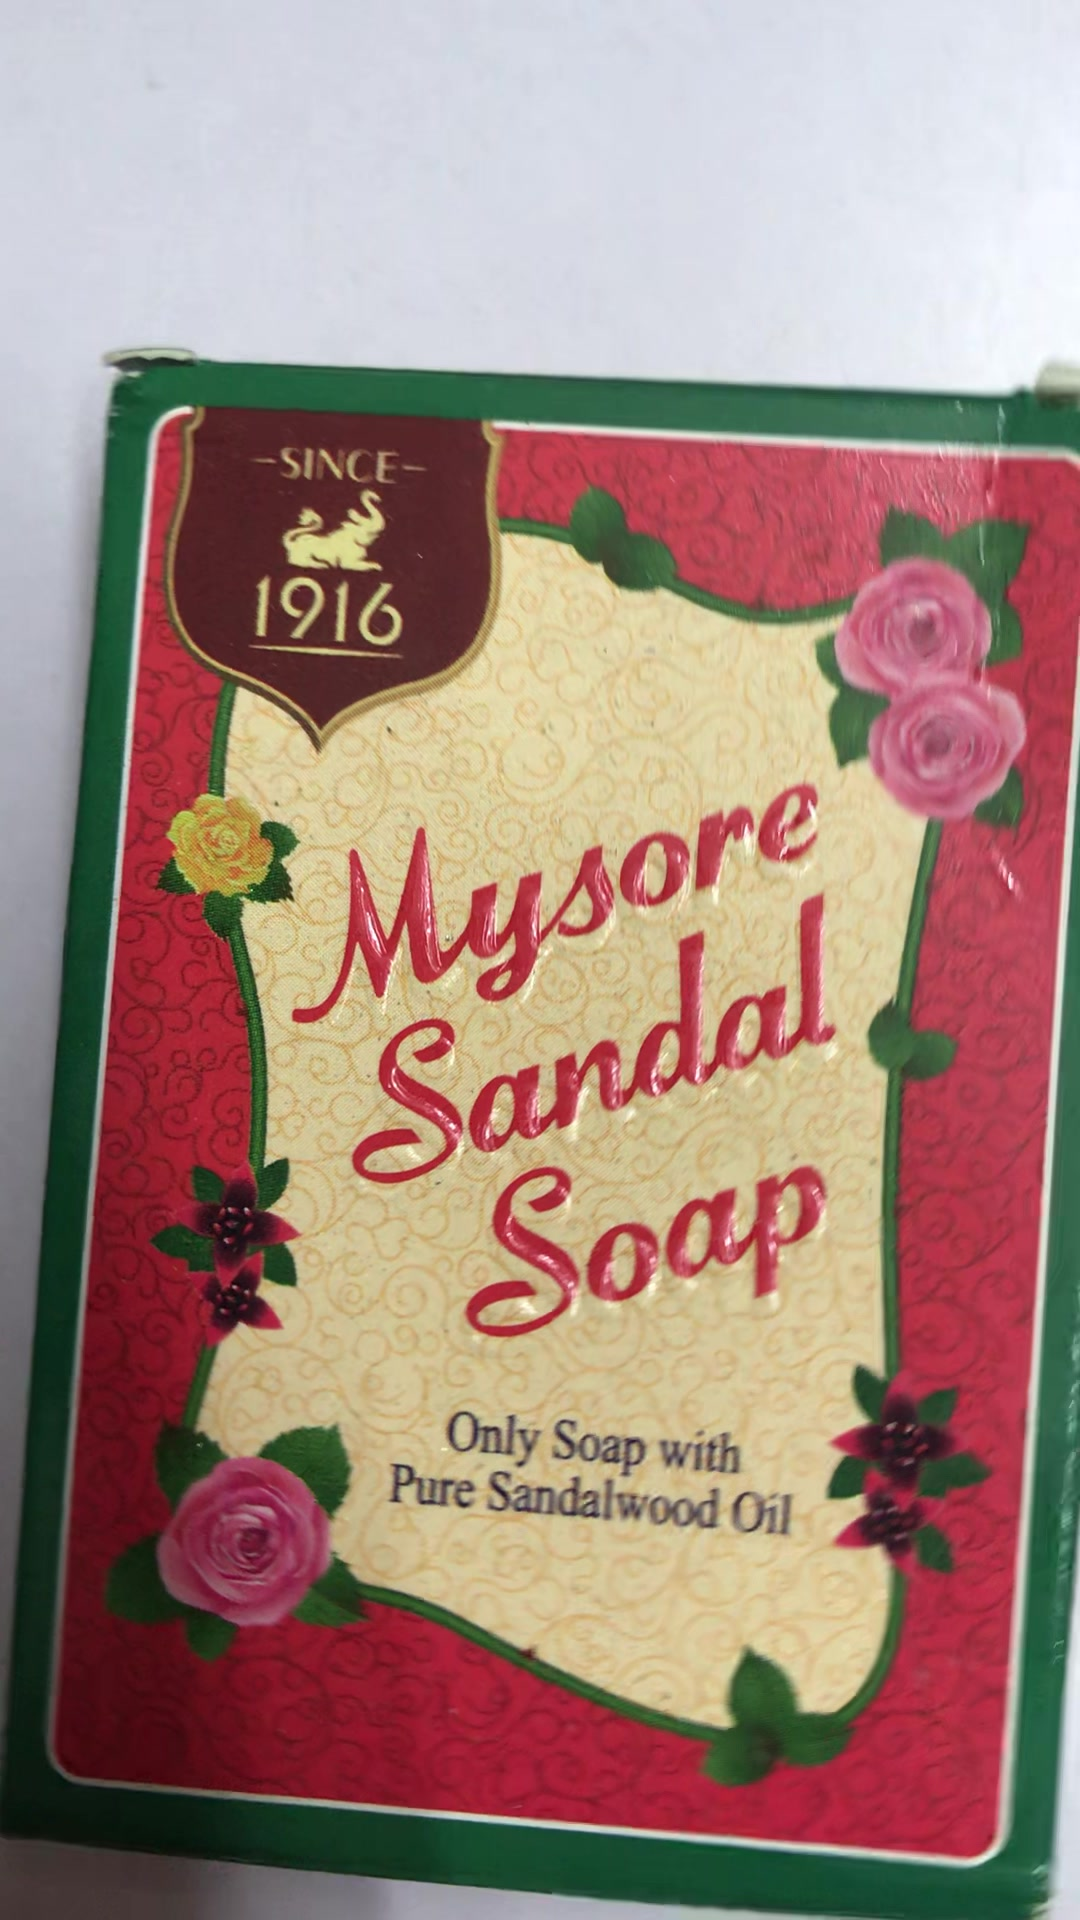mysore sandal soap: (1, 349, 1077, 1913)
